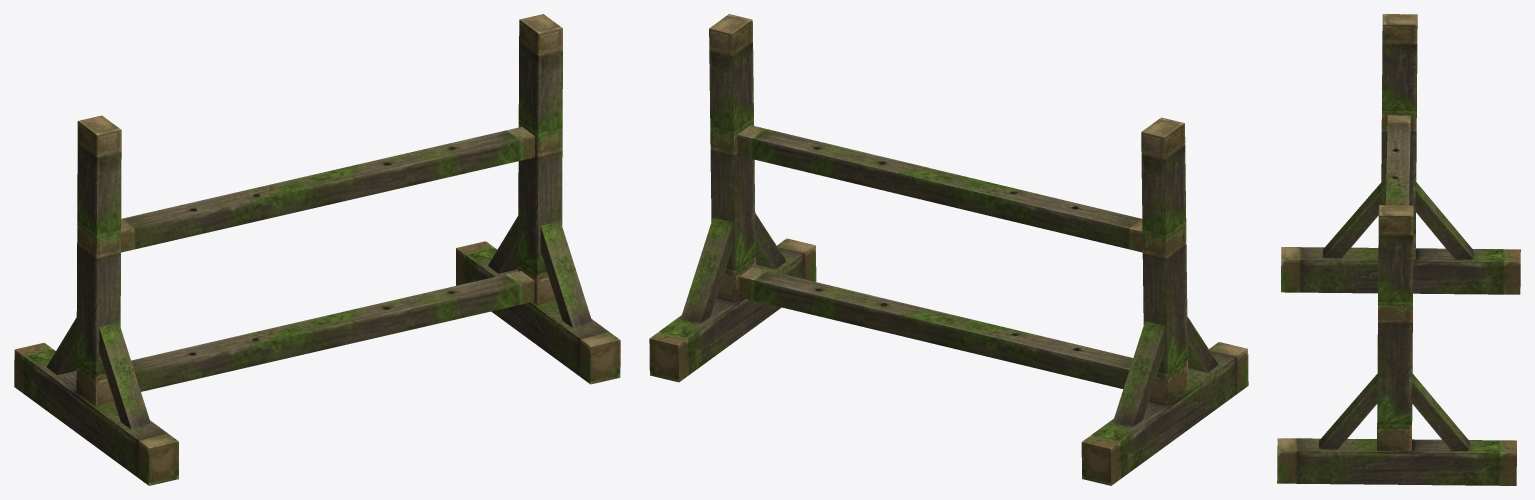
File: 3004_Item_bongqijiazi_5.FBX
3 views of the same model, side by side, from view 1: azimuth 30°, elevation 25°; view 2: azimuth 150°, elevation 25°; view 3: azimuth 270°, elevation 25° (orthographic). The views are drawn at different scales.
Parts seen in each view (by area): view 1: 3004_Item_bongqijiazi_5; view 2: 3004_Item_bongqijiazi_5; view 3: 3004_Item_bongqijiazi_5.
Part boxes in pixels (box(x1,y1,x2,y2)): 3004_Item_bongqijiazi_5: box(14, 14, 620, 485); 3004_Item_bongqijiazi_5: box(649, 14, 1248, 485); 3004_Item_bongqijiazi_5: box(1277, 14, 1520, 485).
Size of the model in its own units: 228 by 145 by 117.
